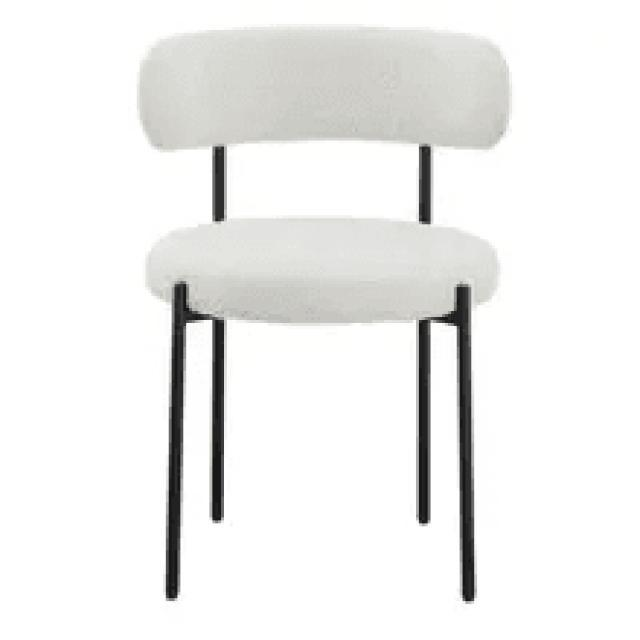chair: (127, 20, 517, 608), (130, 21, 520, 320)
